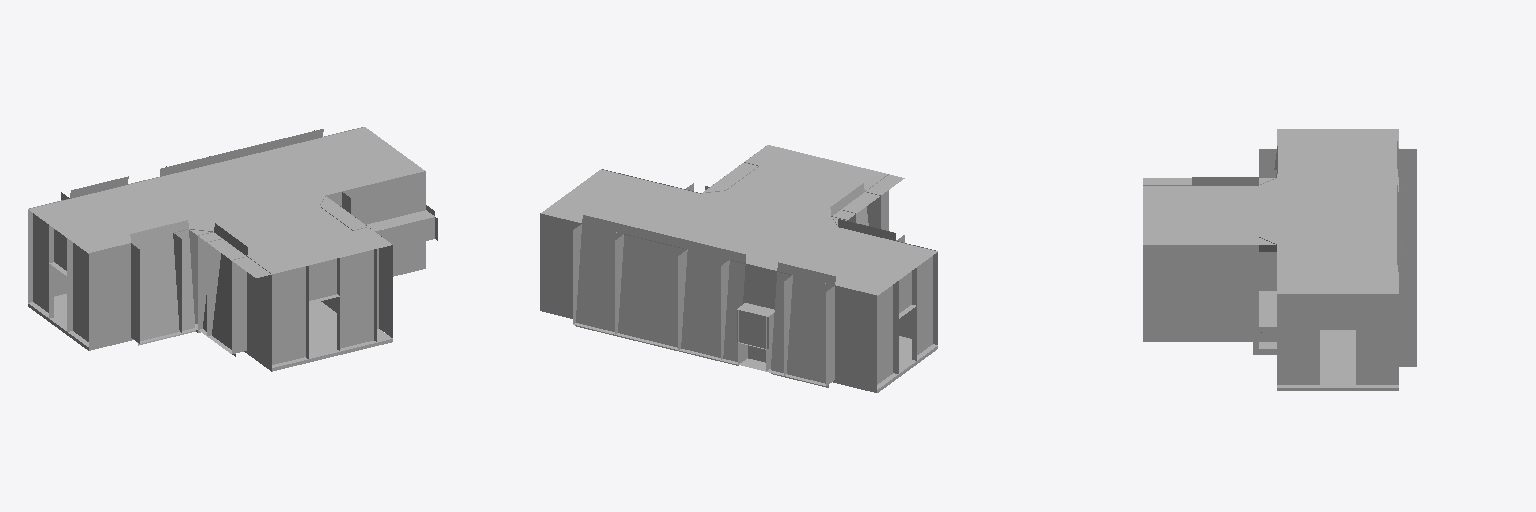
File: LC_room3_3.obj
3 views of the same model, side by side, from view 1: azimuth 30°, elevation 25°; view 2: azimuth 150°, elevation 25°; view 3: azimuth 270°, elevation 25° (orthographic).
Parts seen in each view (by area): view 1: room3IntersectionLczAlt1_room3_3_opt; view 2: room3IntersectionLczAlt1_room3_3_opt; view 3: room3IntersectionLczAlt1_room3_3_opt.
Boxes of the visible parts, box(x1,y1,x2,y2) form: room3IntersectionLczAlt1_room3_3_opt: box(28, 127, 437, 371); room3IntersectionLczAlt1_room3_3_opt: box(540, 145, 937, 392); room3IntersectionLczAlt1_room3_3_opt: box(1143, 129, 1416, 390).
Bounding box in the file's own units: 20.49 × 6.2 × 14.4.